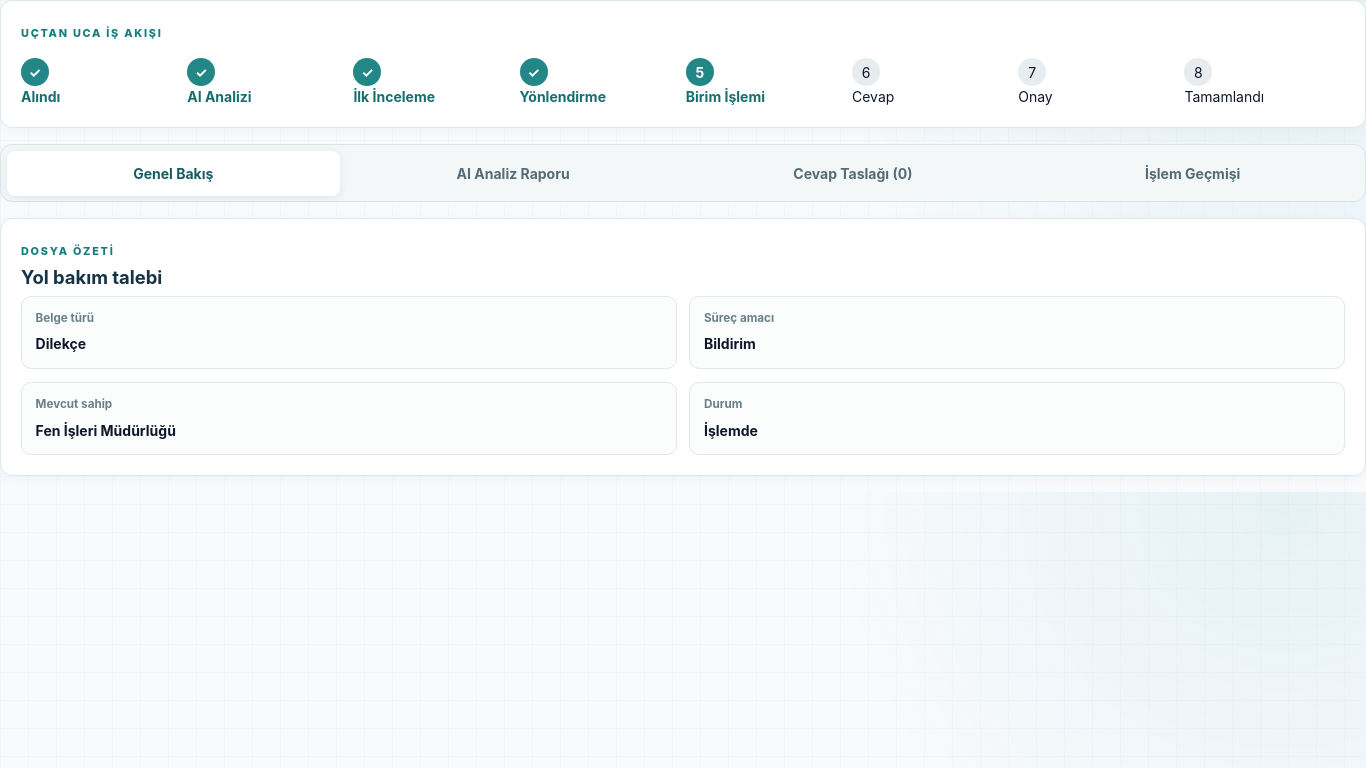
Test: Case official writing and report experience › shows all Task 1 report sections
This screenshot has width=1366, height=768.
What coordinates should you click on to do the following:
click the button "AI Analiz Raporu"
I would click on:
 (513, 173)
Its box is top-left (346, 151), bottom-right (680, 196).
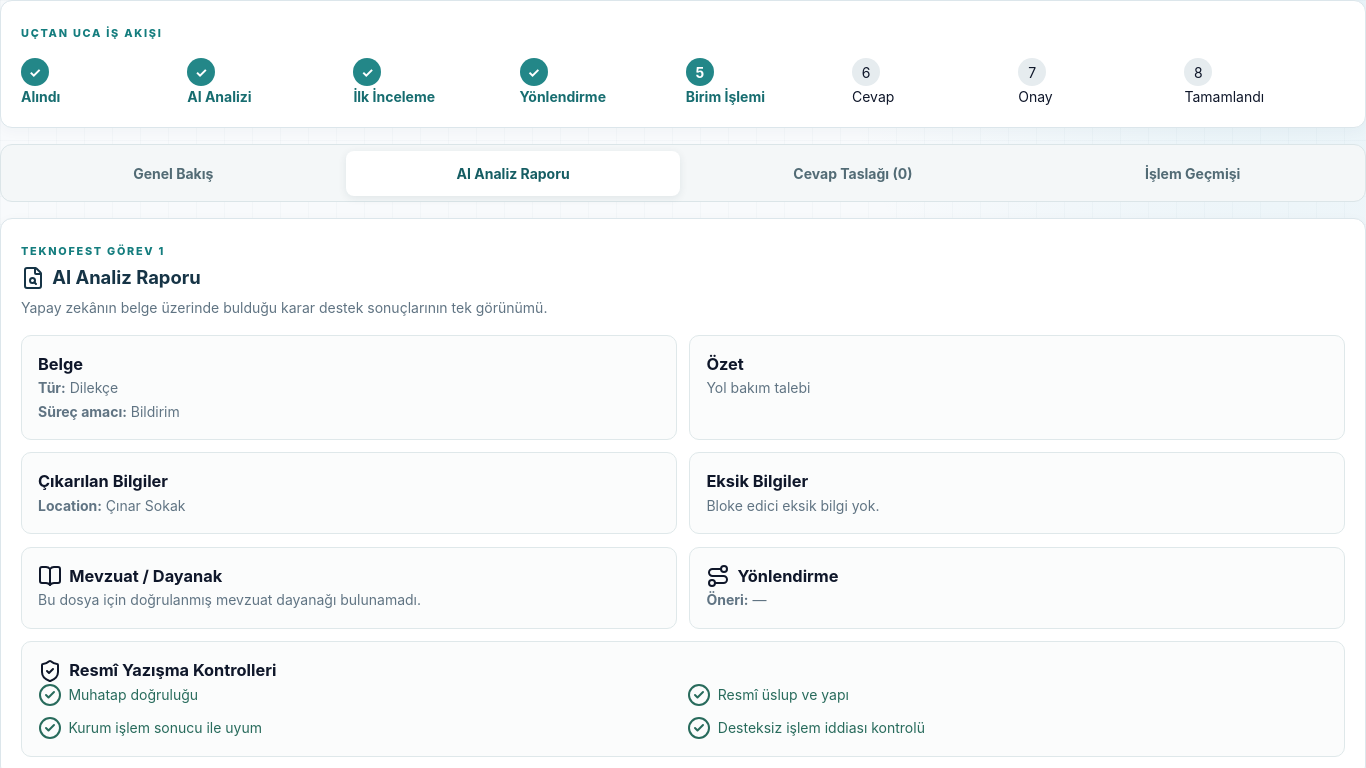
expect the heading "Belge" is shown: met, box top-left (38, 354), bottom-right (83, 374)
expect the heading "Çıkarılan Bilgiler" is shown: met, box top-left (38, 471), bottom-right (168, 491)
expect the heading "Eksik Bilgiler" is shown: met, box top-left (706, 471), bottom-right (808, 491)
